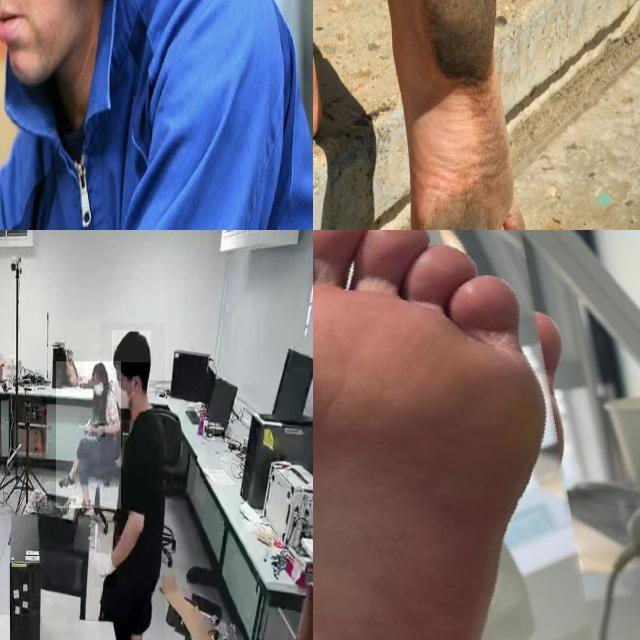Barefoots: (313, 230, 577, 640), (400, 0, 526, 230)
face_mask: (114, 367, 132, 420), (92, 372, 104, 400)
hand_glove: (93, 546, 117, 589)
hand_noglove: (90, 423, 106, 438)
head_nohelmet: (112, 330, 151, 363), (91, 361, 107, 373)
person: (100, 323, 165, 640), (56, 361, 121, 509)
shoes: (57, 466, 78, 496)
